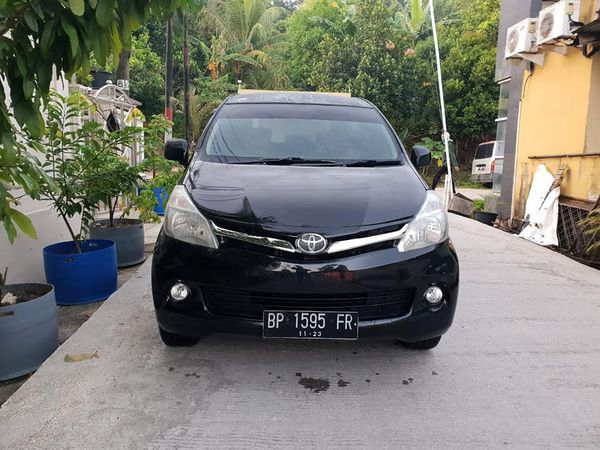plate: (256, 305, 362, 346)
